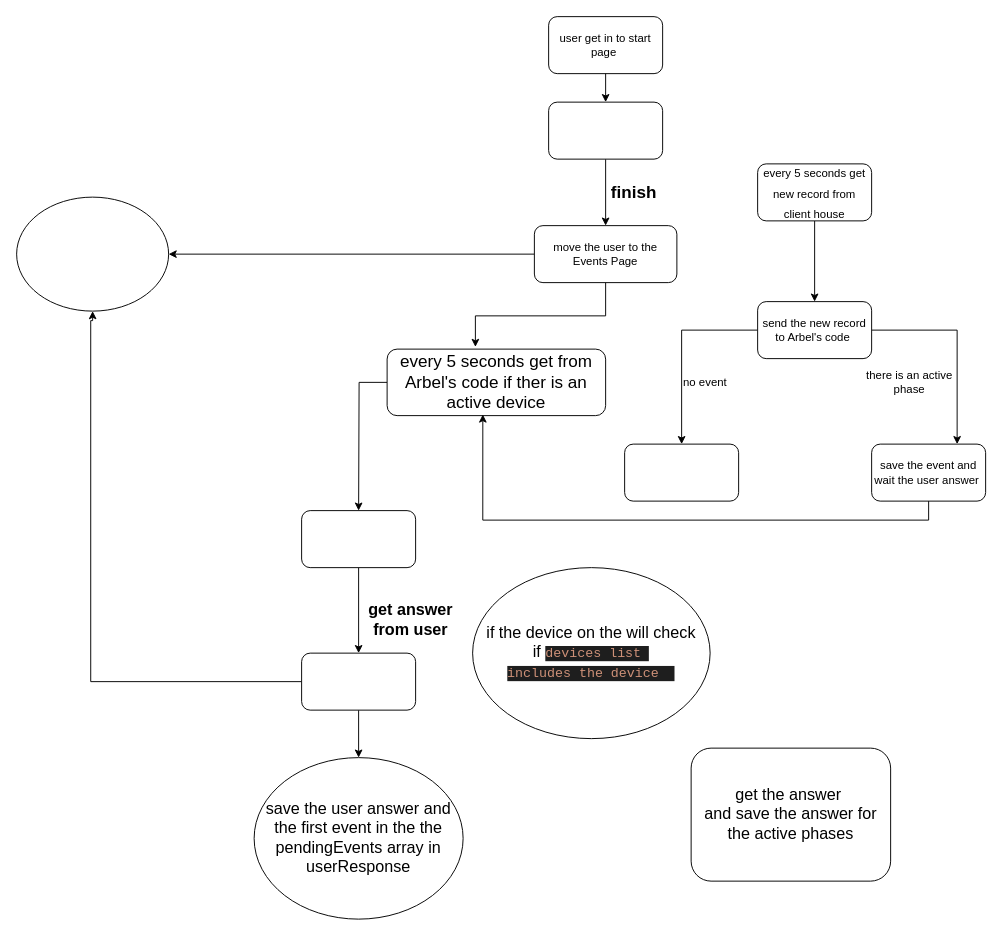
This 1002x936 diagram has some shape labels left out. The box of each missing label's shape, as (x1, y1, x2, y2) in pixels:
continu: (624, 443, 739, 501)
Enters the names of the devices on: (548, 101, 663, 159)
modal open (the modal will open untill the user anser): (301, 510, 416, 568)
save the active devices in Cache activeDevices- ${ sn }: (16, 196, 169, 311)
save the answer in the DB and in the cach: (301, 652, 416, 710)
